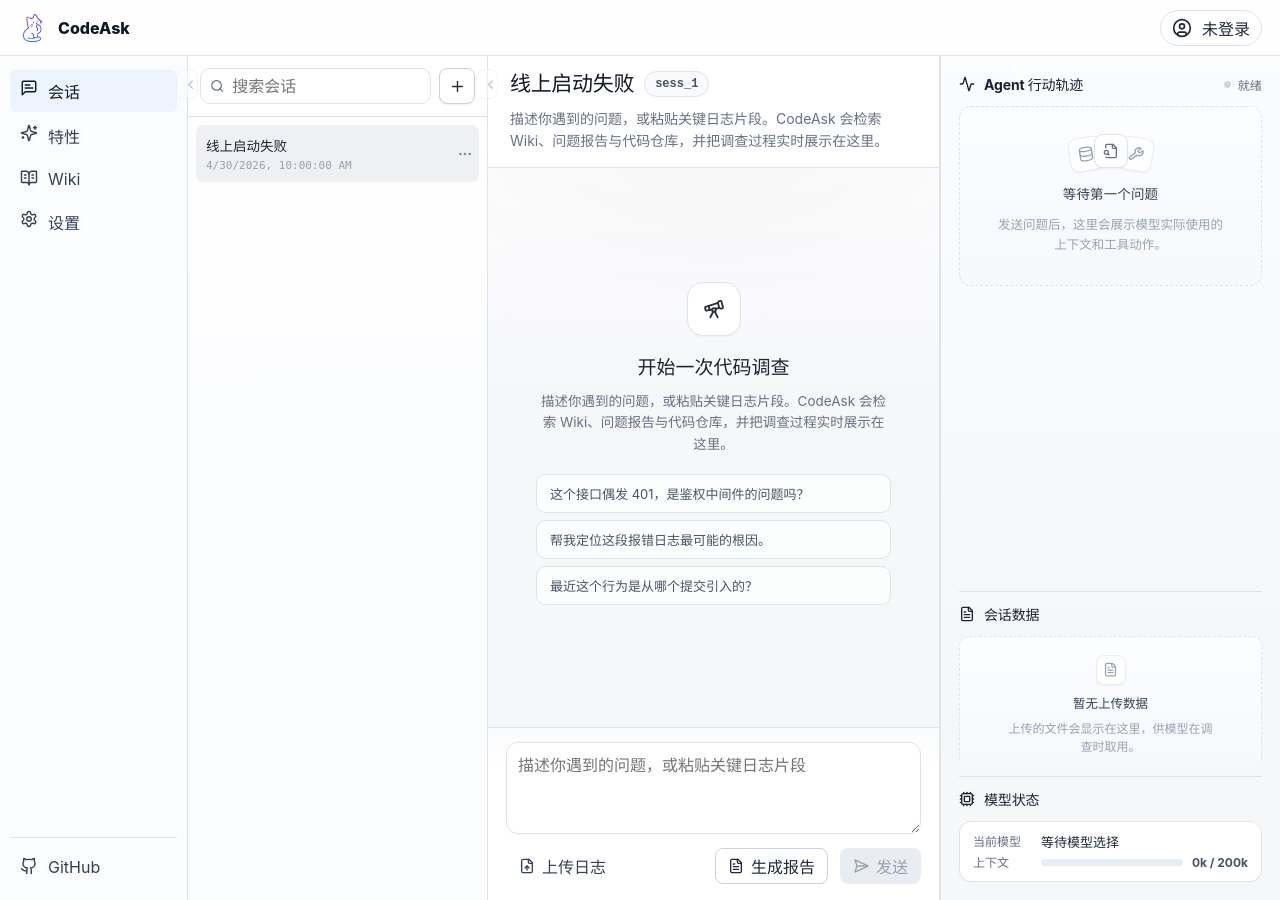
Test: SessionWorkspace streaming interaction › shows a visible error when deleting a session fails
Check: the text "线上启动失败" is shown, box 206,135 -> 287,155
Click the button named "打开会话 线上启动失败 的更多操作" at (465,154), box 451,140 -> 479,168
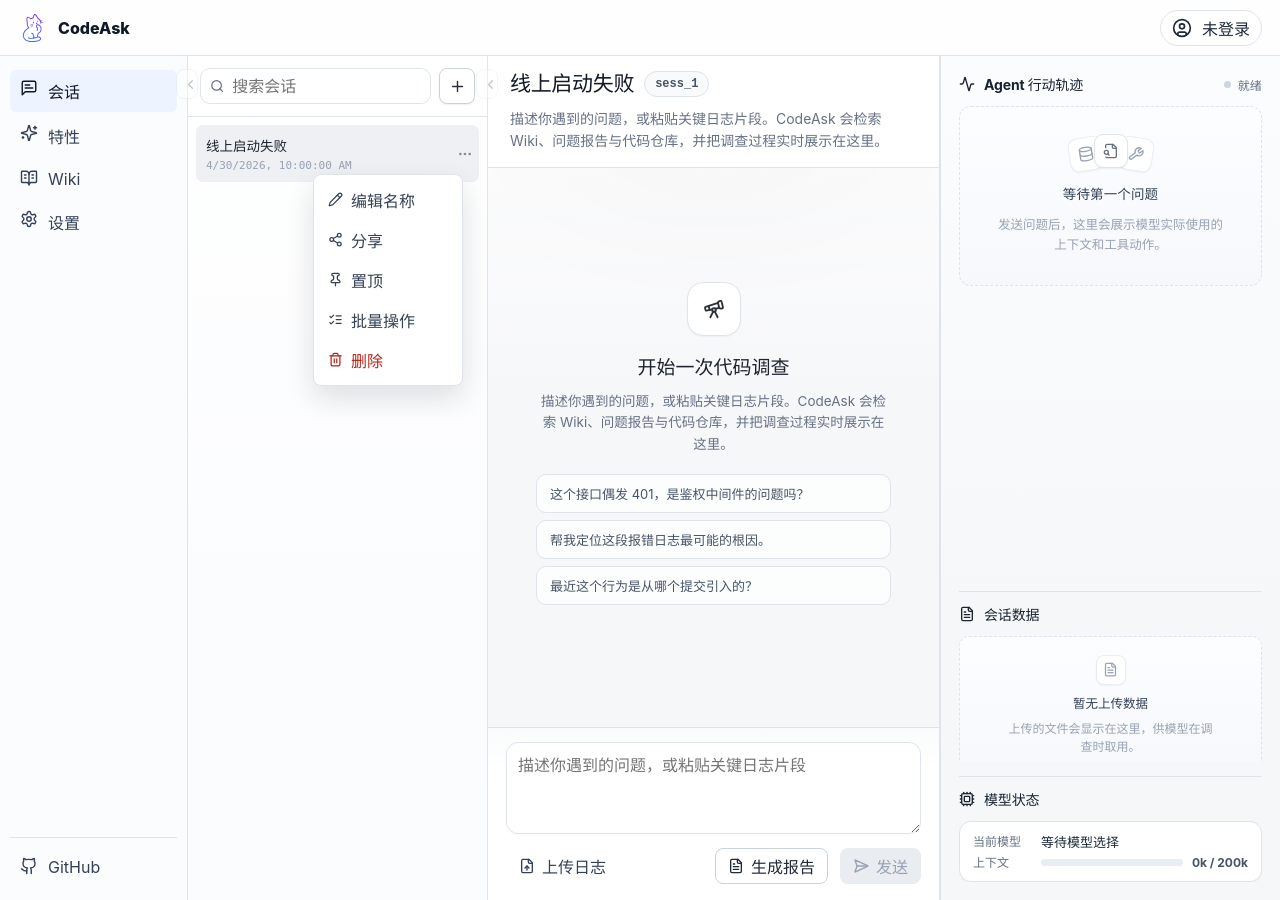
Click the menu item "删除" at (388,360), box 319,340 -> 457,380
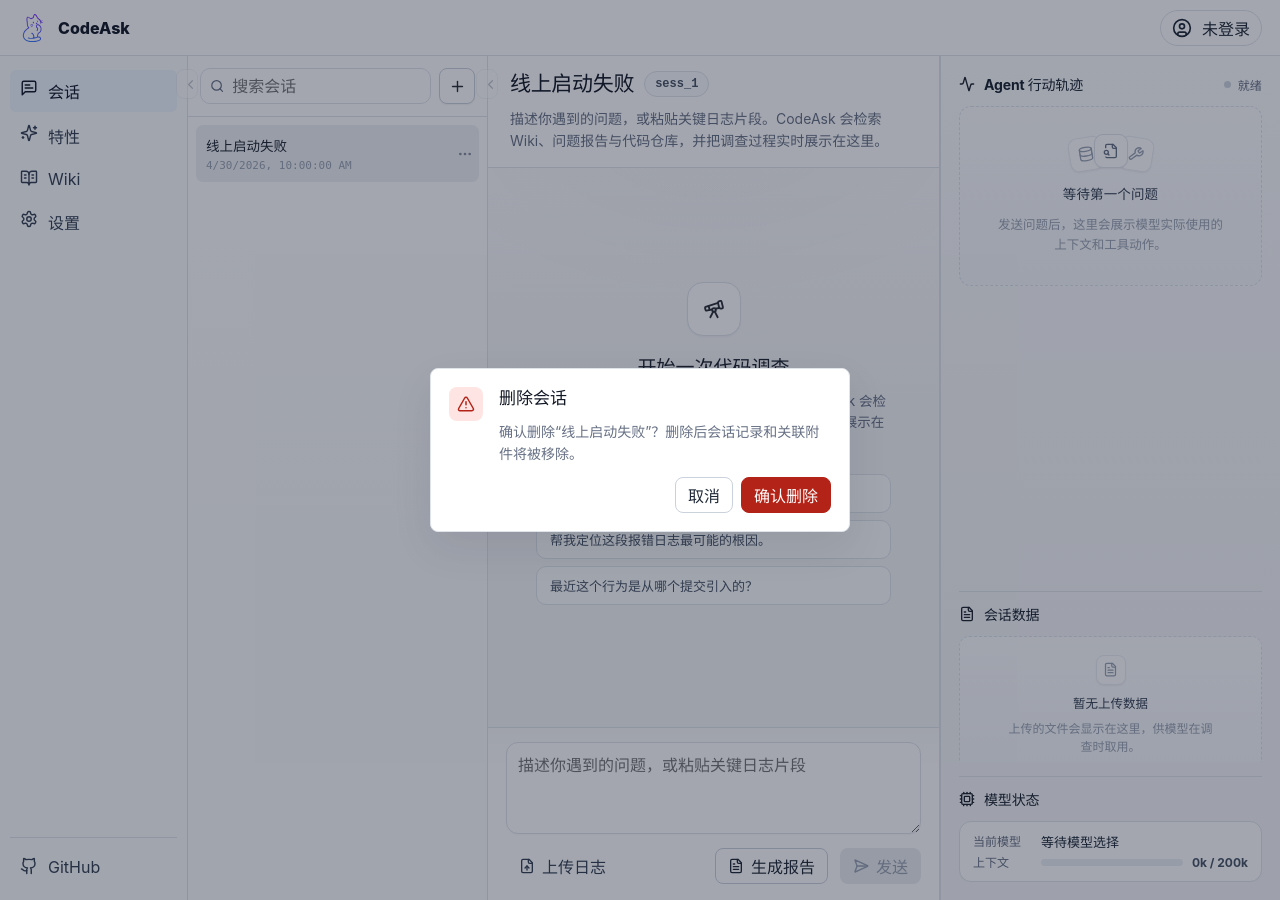
Click the button "确认删除" at (786,495), box 741,477 -> 831,513
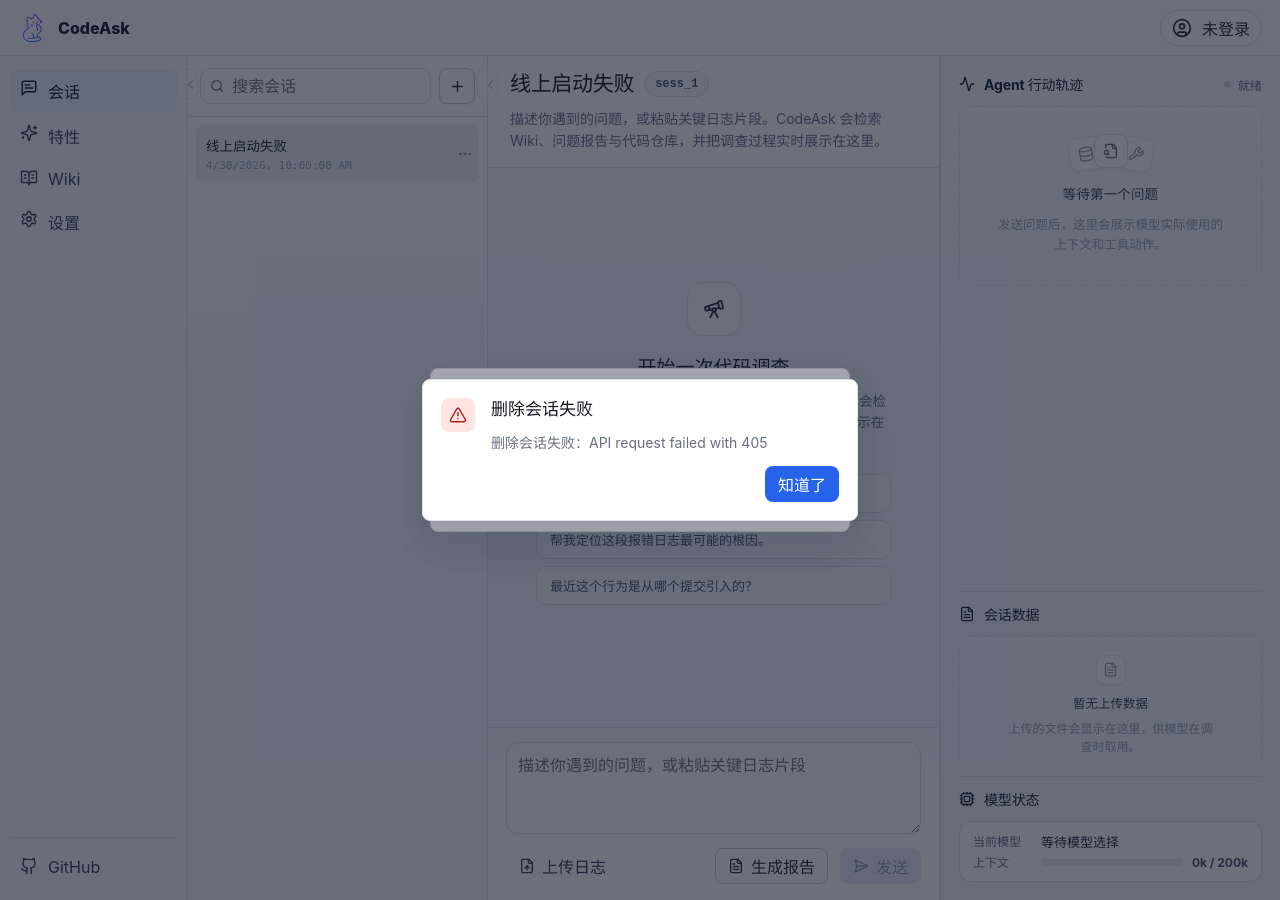
Check: the text "线上启动失败" is shown, box 206,135 -> 287,155
Check: the dialog shows "删除会话失败：API request failed with 405", box 491,434 -> 768,451
